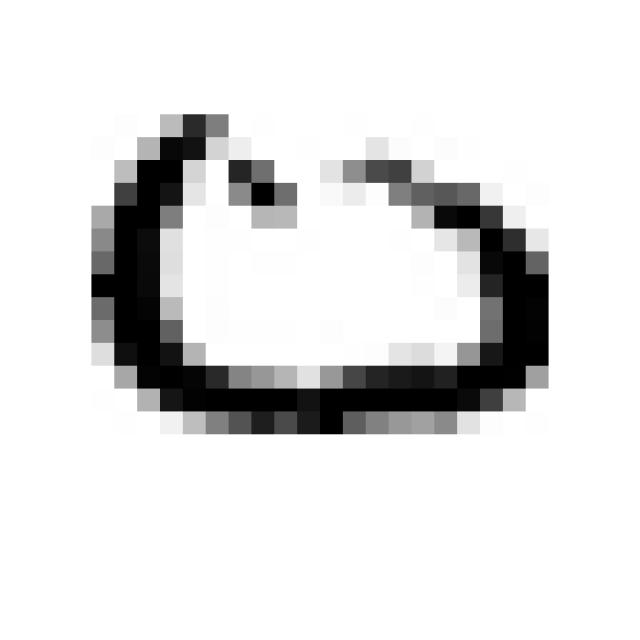5 -five-: (73, 96, 566, 454)
